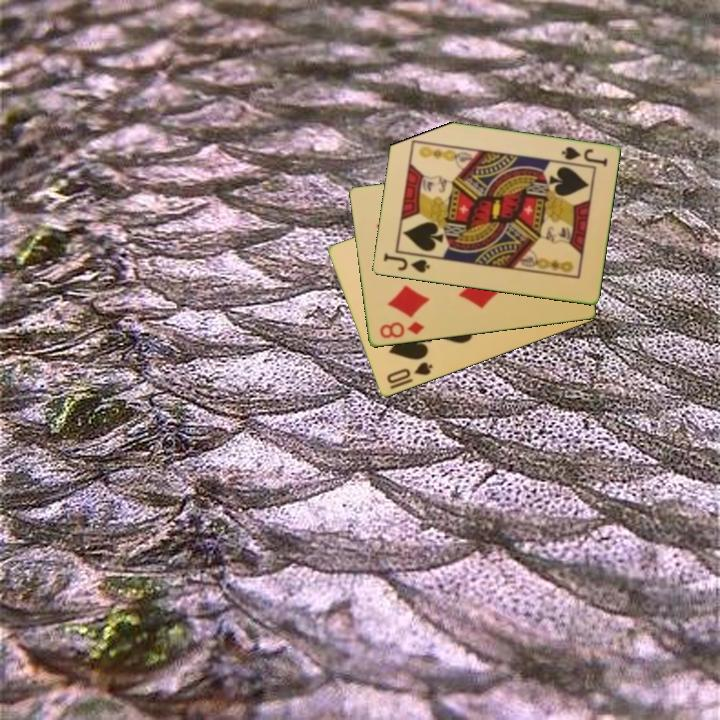10s: (383, 359, 436, 387)
8d: (376, 318, 427, 342)
Js: (558, 143, 610, 170), (380, 250, 433, 276)
